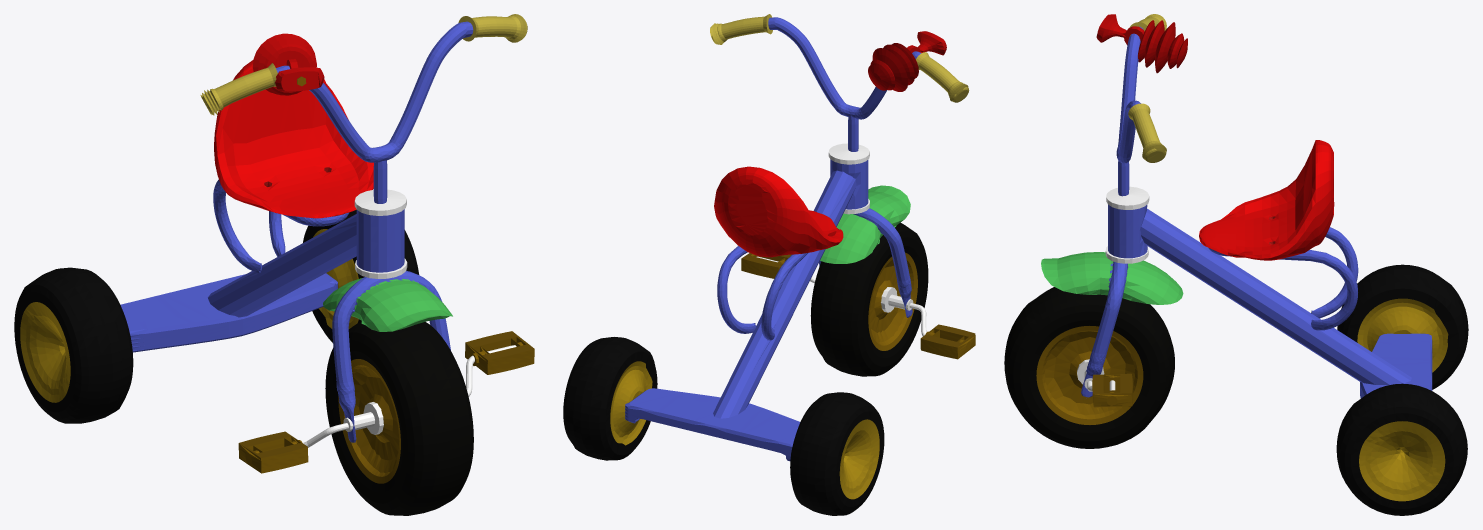
File: tric.dae
The picture shows the model from 3 angles, left to right: view 1: azimuth 30°, elevation 25°; view 2: azimuth 150°, elevation 25°; view 3: azimuth 270°, elevation 25°; orthographic projection. The views are drawn at different scales.
Visible parts, largest first — view 1: tricicl_main, tricicl_roda, tricicl_guid; view 2: tricicl_main, tricicl_roda, tricicl_guid; view 3: tricicl_main, tricicl_roda, tricicl_guid.
Part boxes in pixels (x1=…): tricicl_main: x1=14, y1=60, x2=419, y2=423; tricicl_roda: x1=238, y1=321, x2=534, y2=515; tricicl_guid: x1=200, y1=14, x2=527, y2=442; tricicl_main: x1=563, y1=143, x2=884, y2=515; tricicl_roda: x1=741, y1=222, x2=975, y2=376; tricicl_guid: x1=710, y1=14, x2=969, y2=317; tricicl_main: x1=1105, y1=140, x2=1468, y2=515; tricicl_roda: x1=1004, y1=287, x2=1174, y2=448; tricicl_guid: x1=1041, y1=14, x2=1187, y2=398.
Size of the model in its own units: 1.78 by 2.44 by 2.31.
